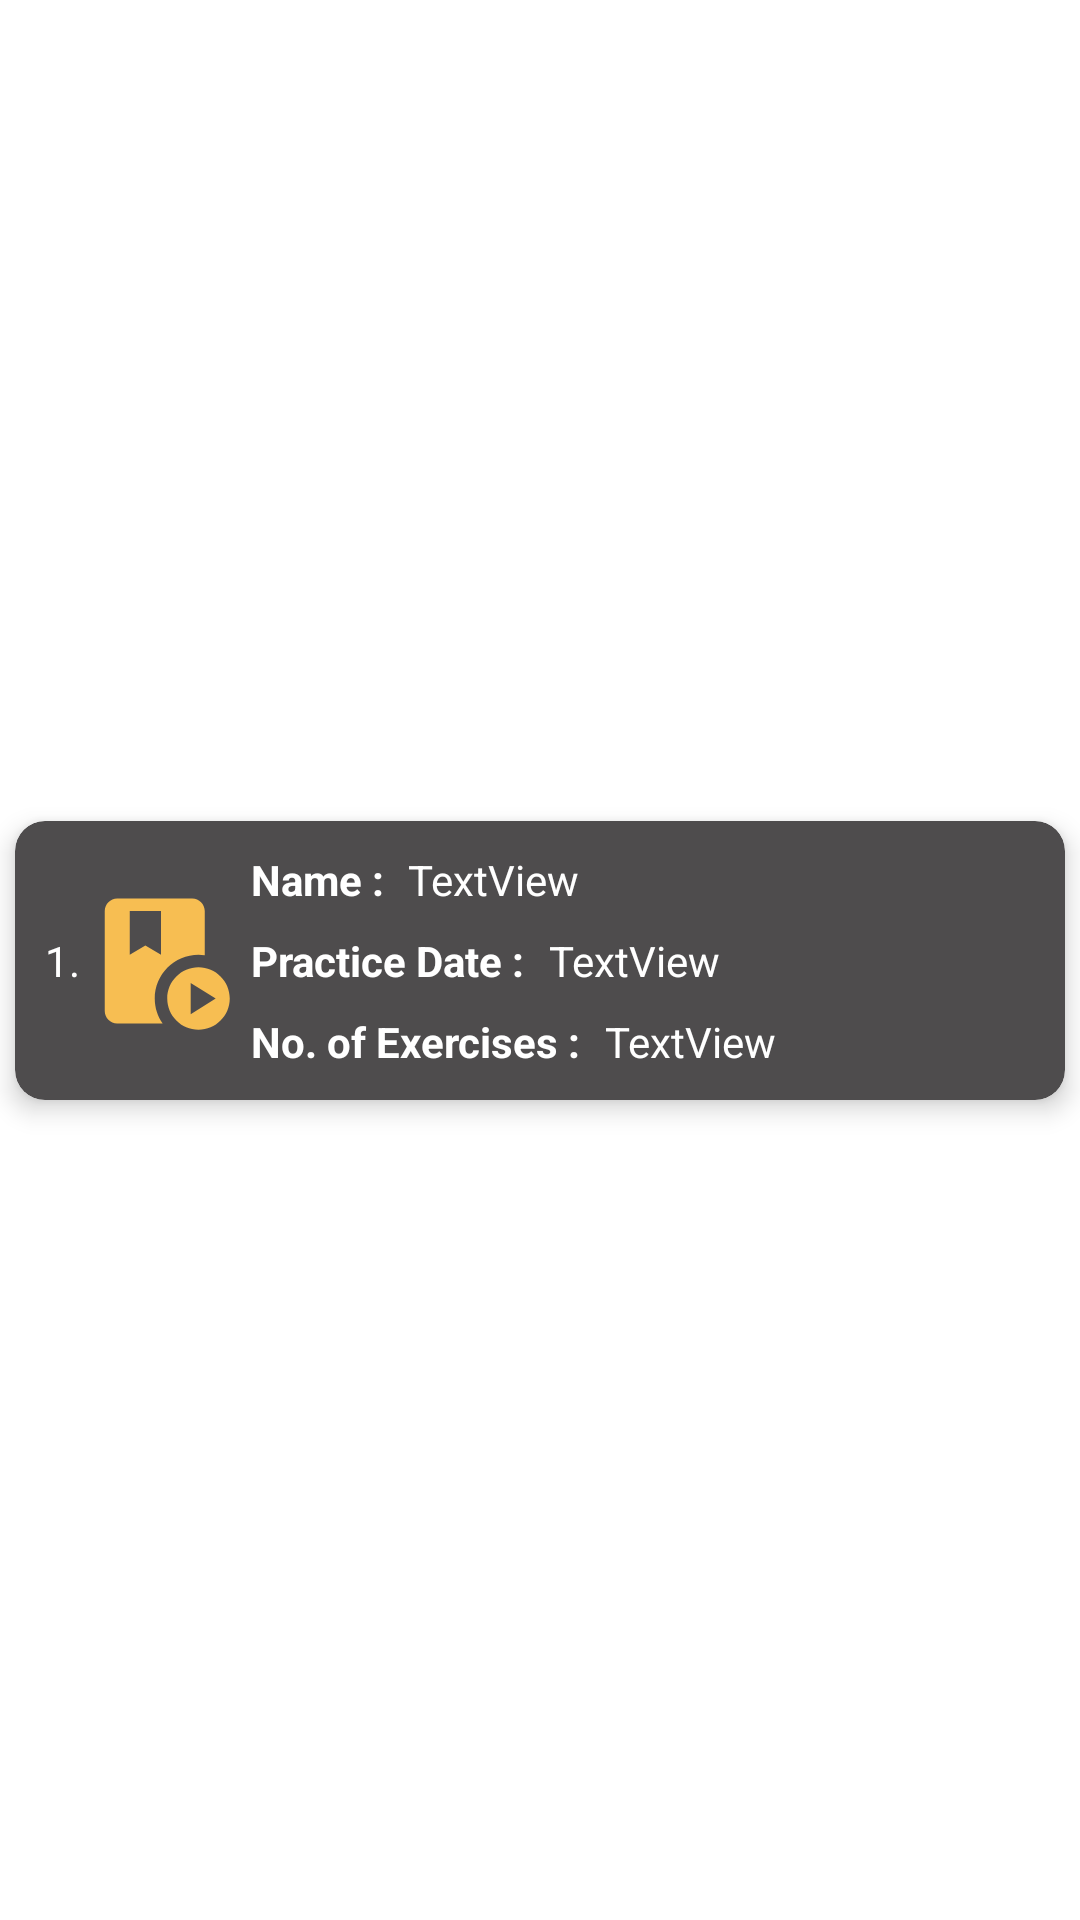

Where to tap for icons on this 1080w x 1920h app screen, as [x,y]:
play lesson: [167,964]
